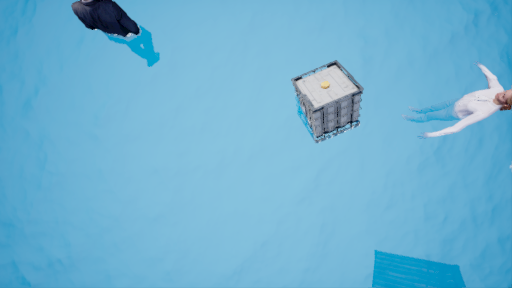person: (389, 59, 512, 143)
